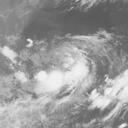cyclone: (36, 55, 87, 94)
